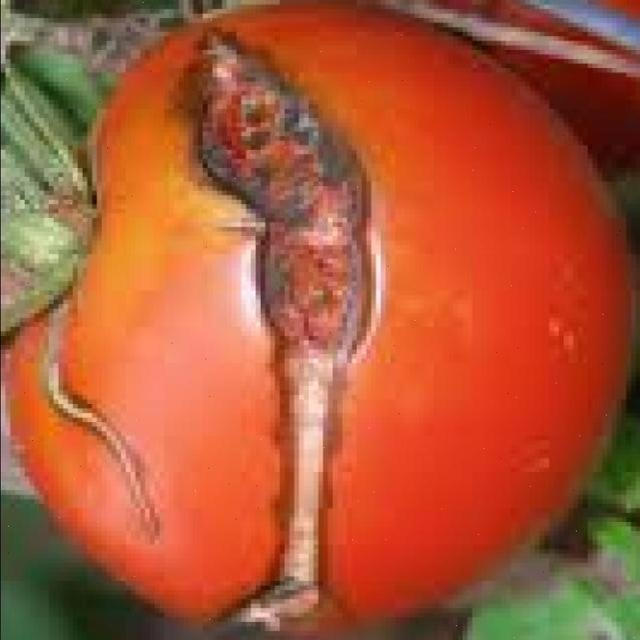Cracking Fruit: (63, 191, 181, 414)
